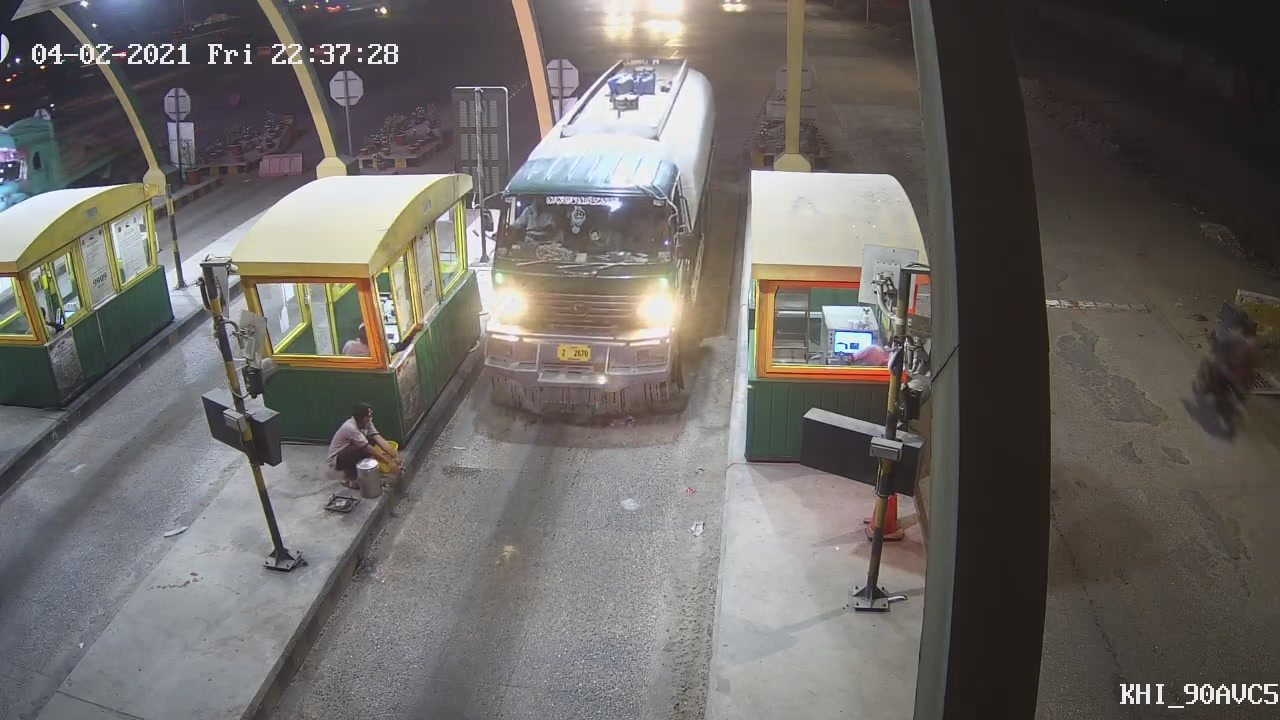F6: (481, 53, 724, 422)
